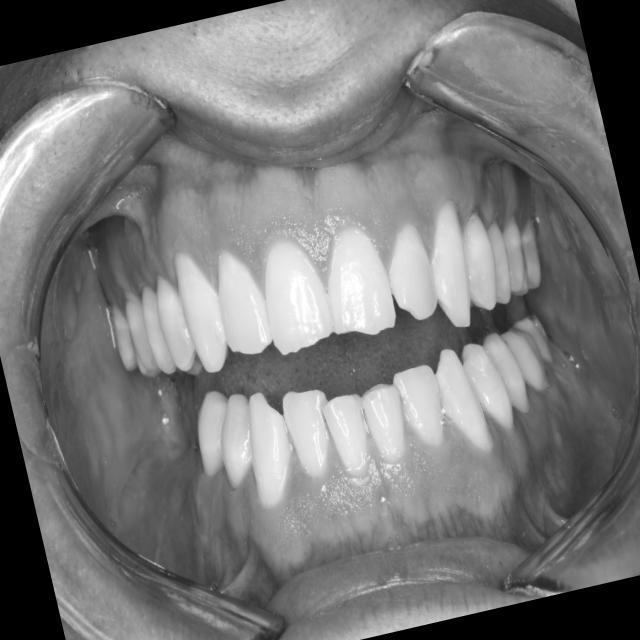tooth: (244, 227, 342, 360), (307, 214, 403, 346), (410, 190, 486, 335), (162, 236, 238, 380), (200, 235, 280, 368), (231, 377, 306, 513), (423, 338, 499, 464), (372, 217, 447, 329), (444, 193, 509, 317), (275, 376, 346, 488), (453, 329, 520, 441), (144, 264, 208, 378), (204, 378, 269, 490), (181, 379, 252, 479), (388, 357, 453, 455), (314, 383, 377, 484), (475, 320, 535, 423), (355, 371, 416, 470), (473, 204, 523, 313), (134, 278, 182, 384), (115, 283, 164, 384), (494, 313, 552, 398), (490, 212, 537, 303), (505, 302, 557, 373), (511, 211, 551, 295), (102, 298, 144, 376)
